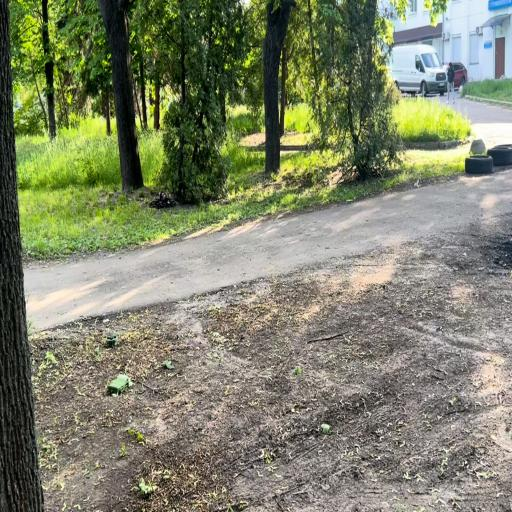drone: (150, 190, 178, 208)
